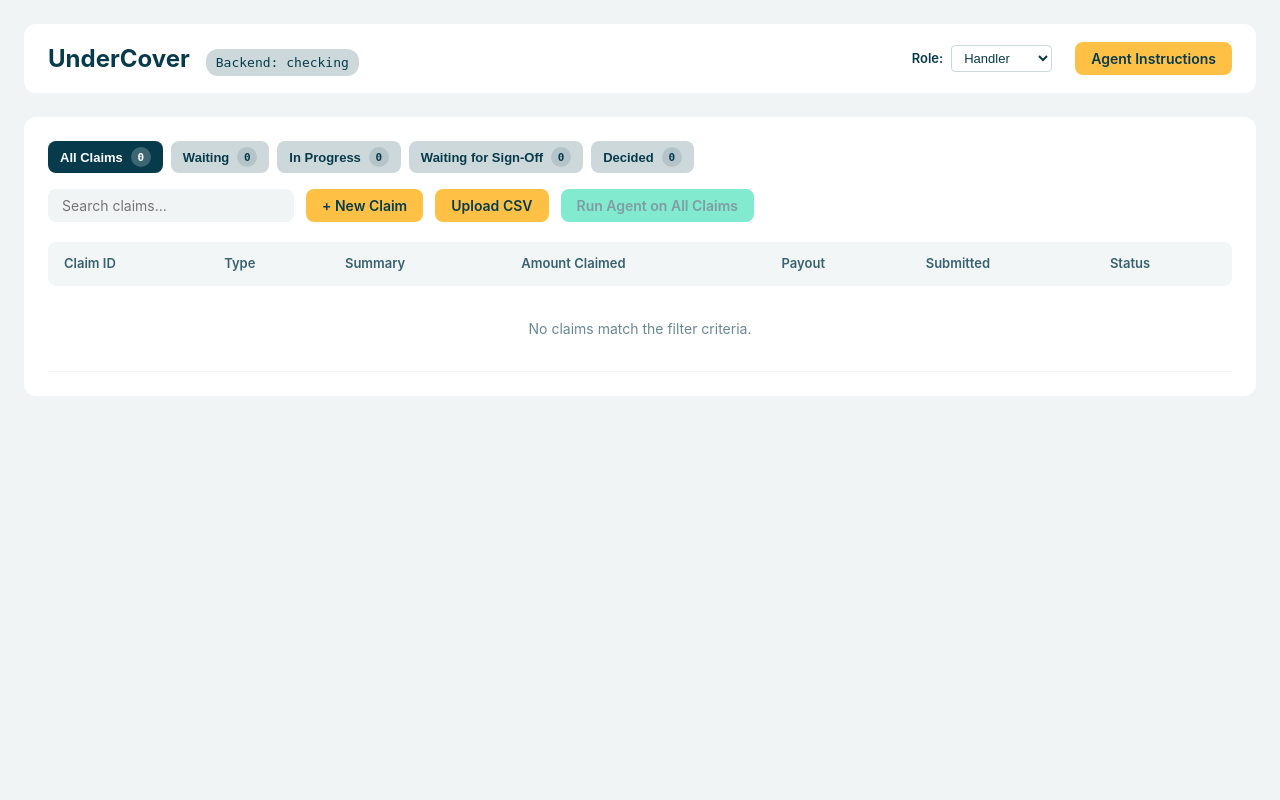
it: opens and closes upload csv modal from queue view
Click the button "Upload CSV": [492, 206] box [435, 189, 548, 222]
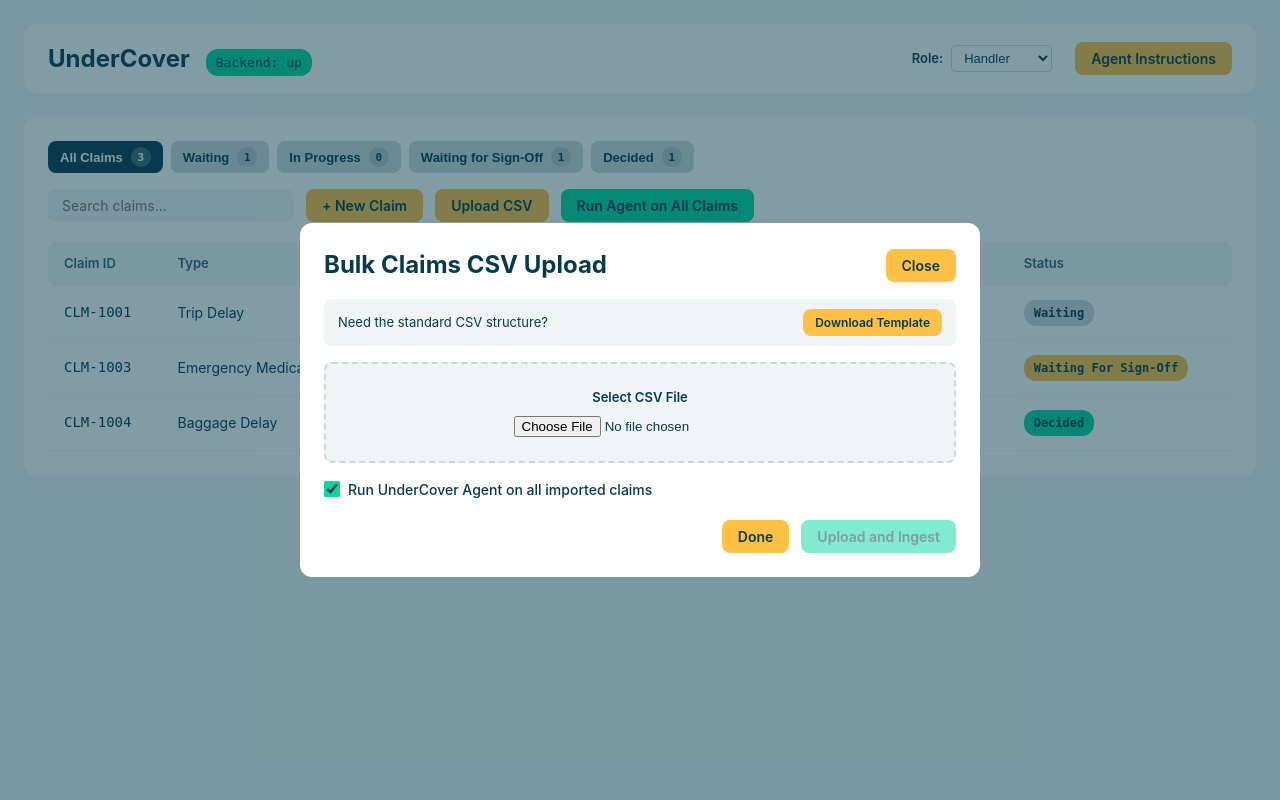
Expected: the heading "Bulk Claims CSV Upload" is shown, [324, 247, 607, 283]
Click the button "Done": [756, 536] box [722, 520, 789, 553]
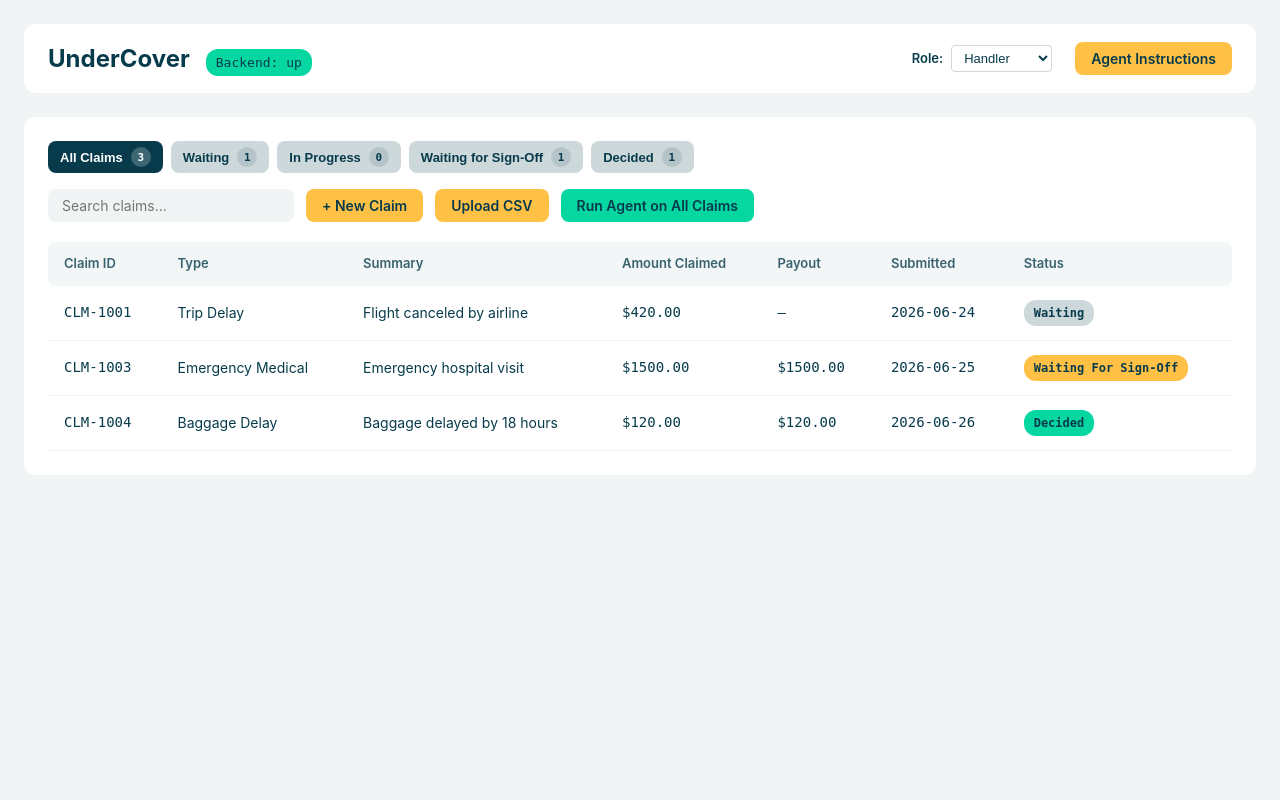
Expected: the heading "Bulk Claims CSV Upload" is gone
